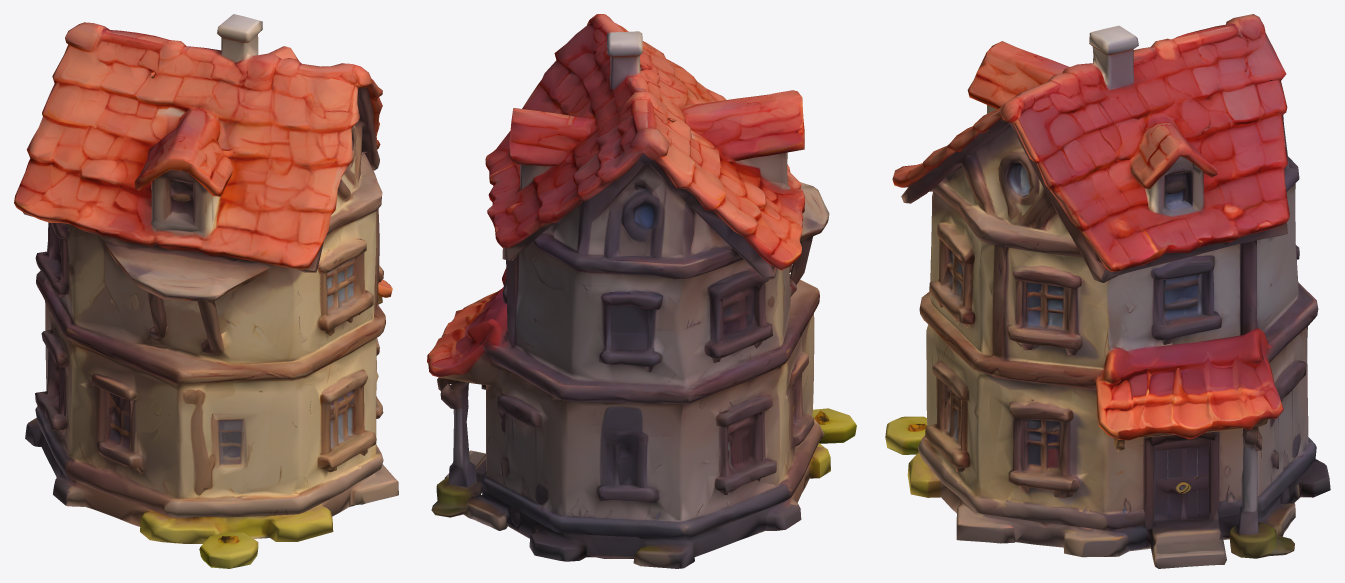
File: stadthaus_rot.glb
3 renders of one model, left to right at view 1: azimuth 30°, elevation 25°; view 2: azimuth 150°, elevation 25°; view 3: azimuth 270°, elevation 25°, orthographic. The views are drawn at different scales.
Parts seen in each view (by area): view 1: tripo_node_74812546-ac00-4ea9-8696-6df02ad4f2c2; view 2: tripo_node_74812546-ac00-4ea9-8696-6df02ad4f2c2; view 3: tripo_node_74812546-ac00-4ea9-8696-6df02ad4f2c2.
Part boxes in pixels (box(x1,y1,x2,y2)): tripo_node_74812546-ac00-4ea9-8696-6df02ad4f2c2: box(14, 14, 398, 568); tripo_node_74812546-ac00-4ea9-8696-6df02ad4f2c2: box(427, 14, 856, 568); tripo_node_74812546-ac00-4ea9-8696-6df02ad4f2c2: box(885, 14, 1330, 568).
Bounding box in the file's own units: 0.827 × 0.9999 × 0.8664.
Materials: 1 (1 with a texture image).
